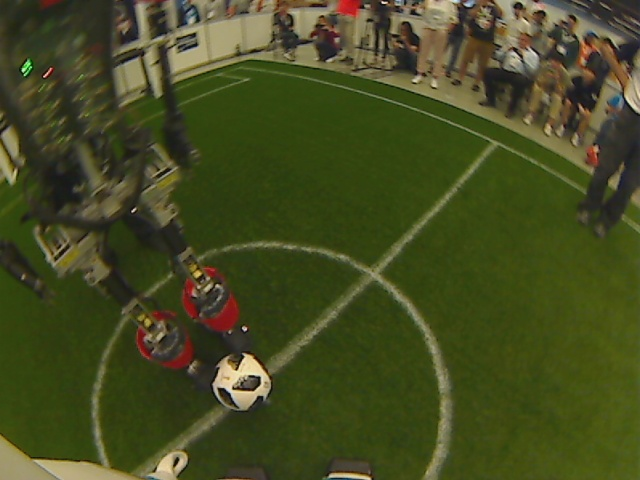ball: (206, 350, 275, 415)
